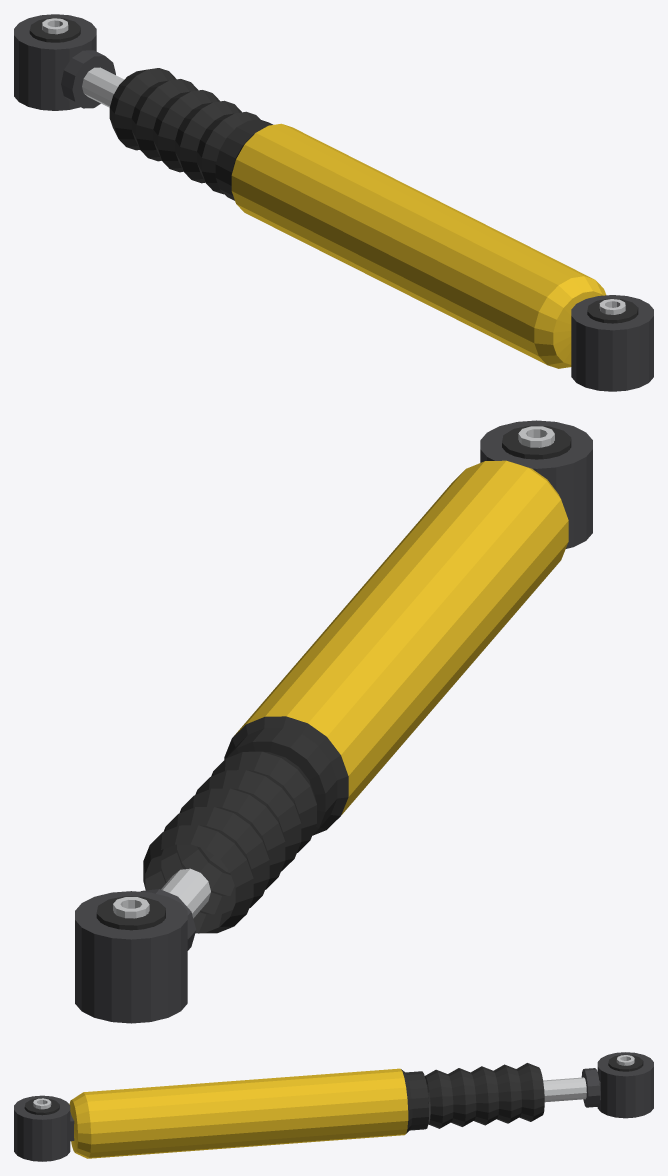
The model's file is item-dampers.glb.
The picture shows the model from 3 angles, top to bottom: view 1: azimuth 30°, elevation 25°; view 2: azimuth 150°, elevation 25°; view 3: azimuth 270°, elevation 25°; orthographic projection. The views are drawn at different scales.
Visible parts, largest first — view 1: dampers; view 2: dampers; view 3: dampers.
Boxes of the visible parts, x1,y1,x2,y2 form: dampers: [14, 14, 653, 391]; dampers: [75, 420, 592, 1023]; dampers: [14, 1052, 653, 1161].
Bounding box in the file's own units: 0.1314 × 0.055 × 0.5249.
